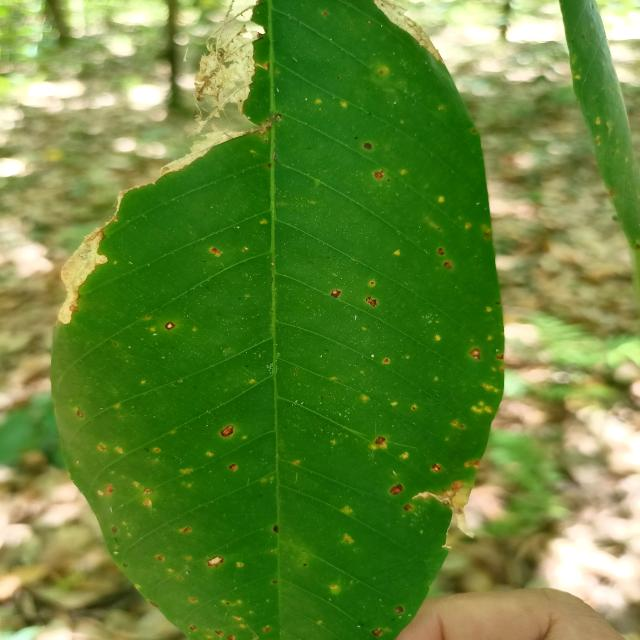Colletotrichum: (220, 424, 234, 438), (389, 483, 403, 495), (468, 348, 480, 359), (365, 297, 378, 307), (330, 289, 341, 298), (164, 322, 176, 330), (432, 463, 442, 472), (443, 262, 454, 270), (372, 628, 382, 636), (375, 436, 384, 444), (363, 143, 373, 150), (404, 504, 412, 511), (395, 606, 403, 613), (437, 248, 445, 255), (275, 114, 282, 120), (272, 580, 277, 584), (303, 563, 307, 566)
